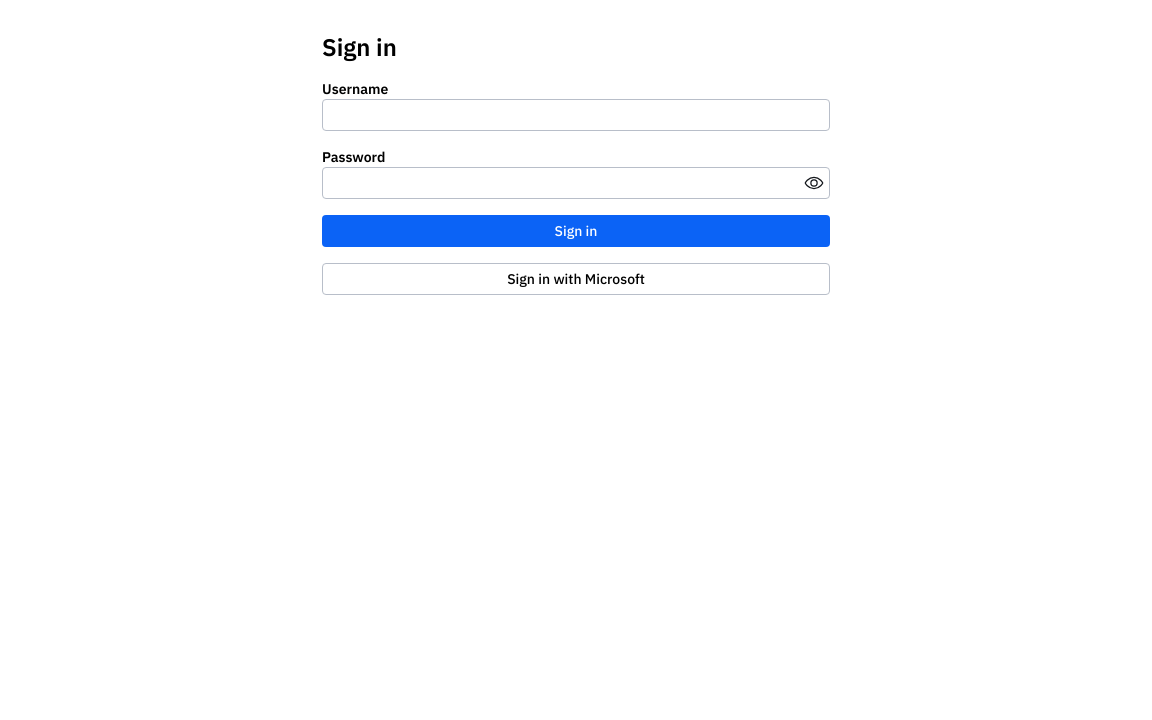
Test: login page › lands on home after good credentials
Type "anna" into the field labelled "Username".
click(576, 115); type("anna")  # box [322,99,830,131]
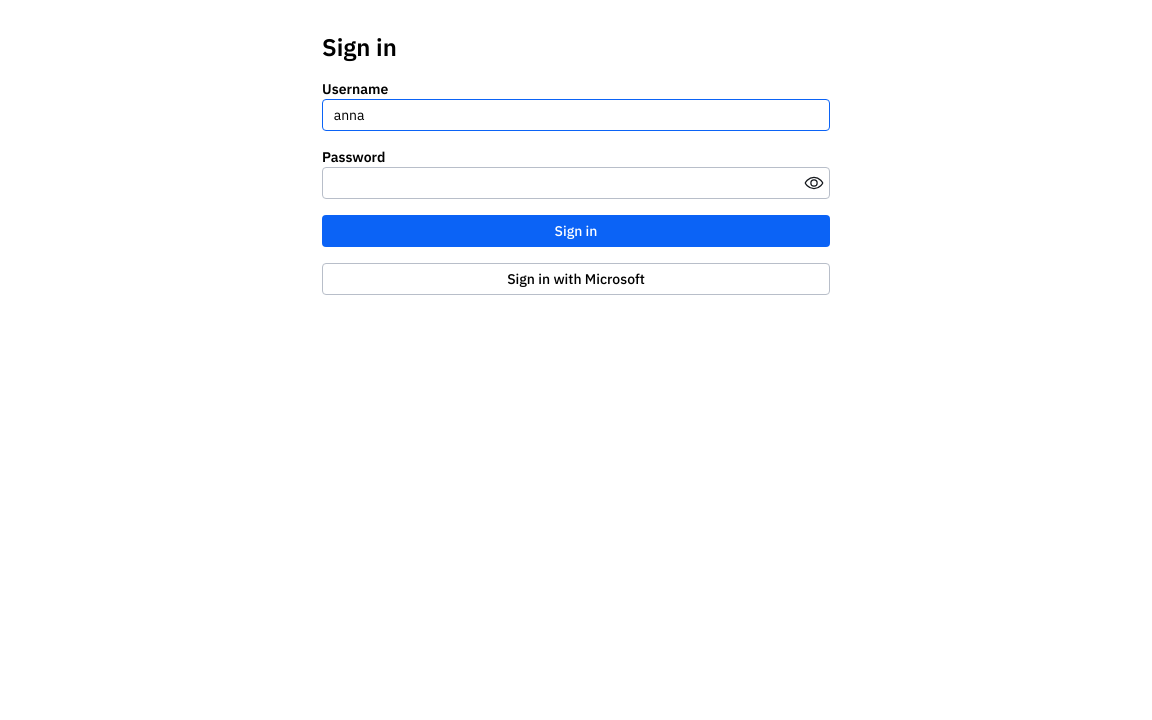
Type "pw" into the password field labelled "Password".
click(576, 183); type("pw")  # box [323,168,829,198]
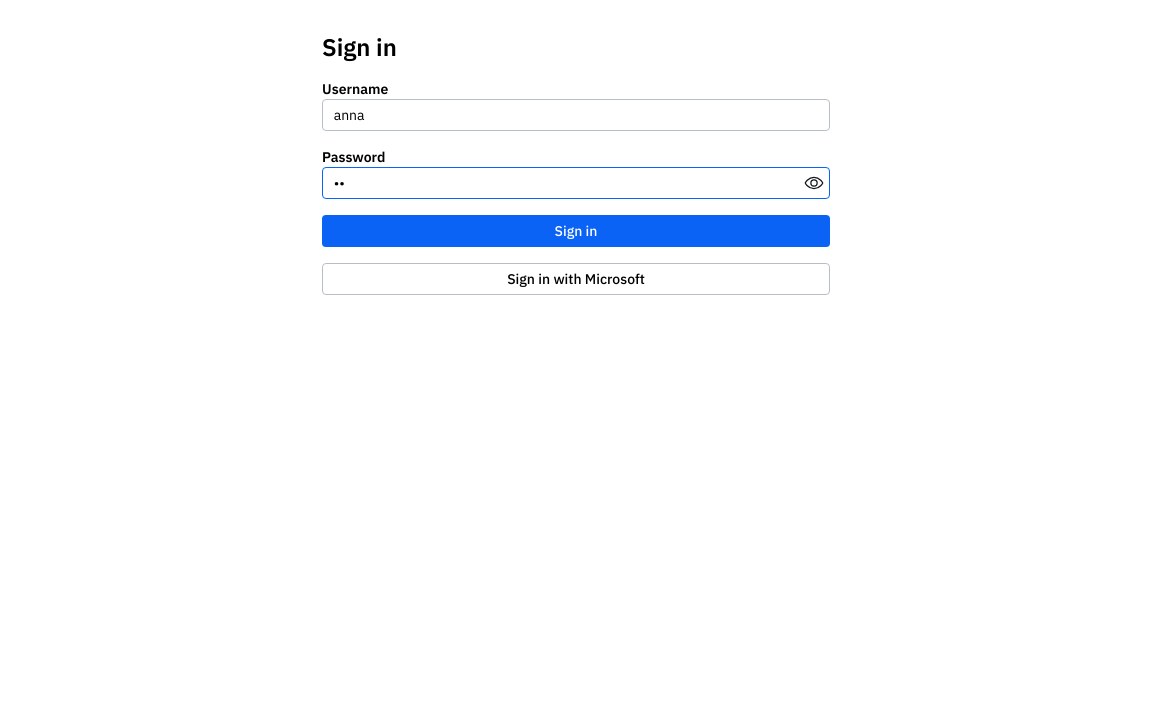
Click the button "Sign in".
click(576, 231)  # box [322,215,830,247]
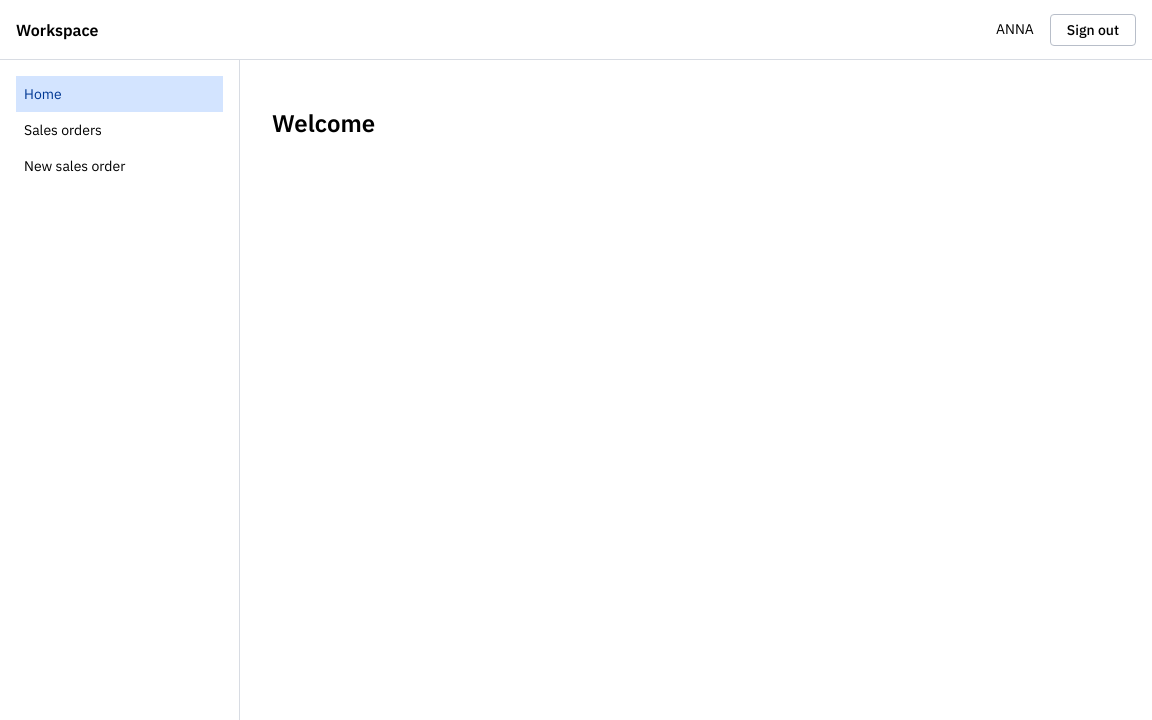
expect the heading "Welcome" is shown: met, box [272,107,375,139]
